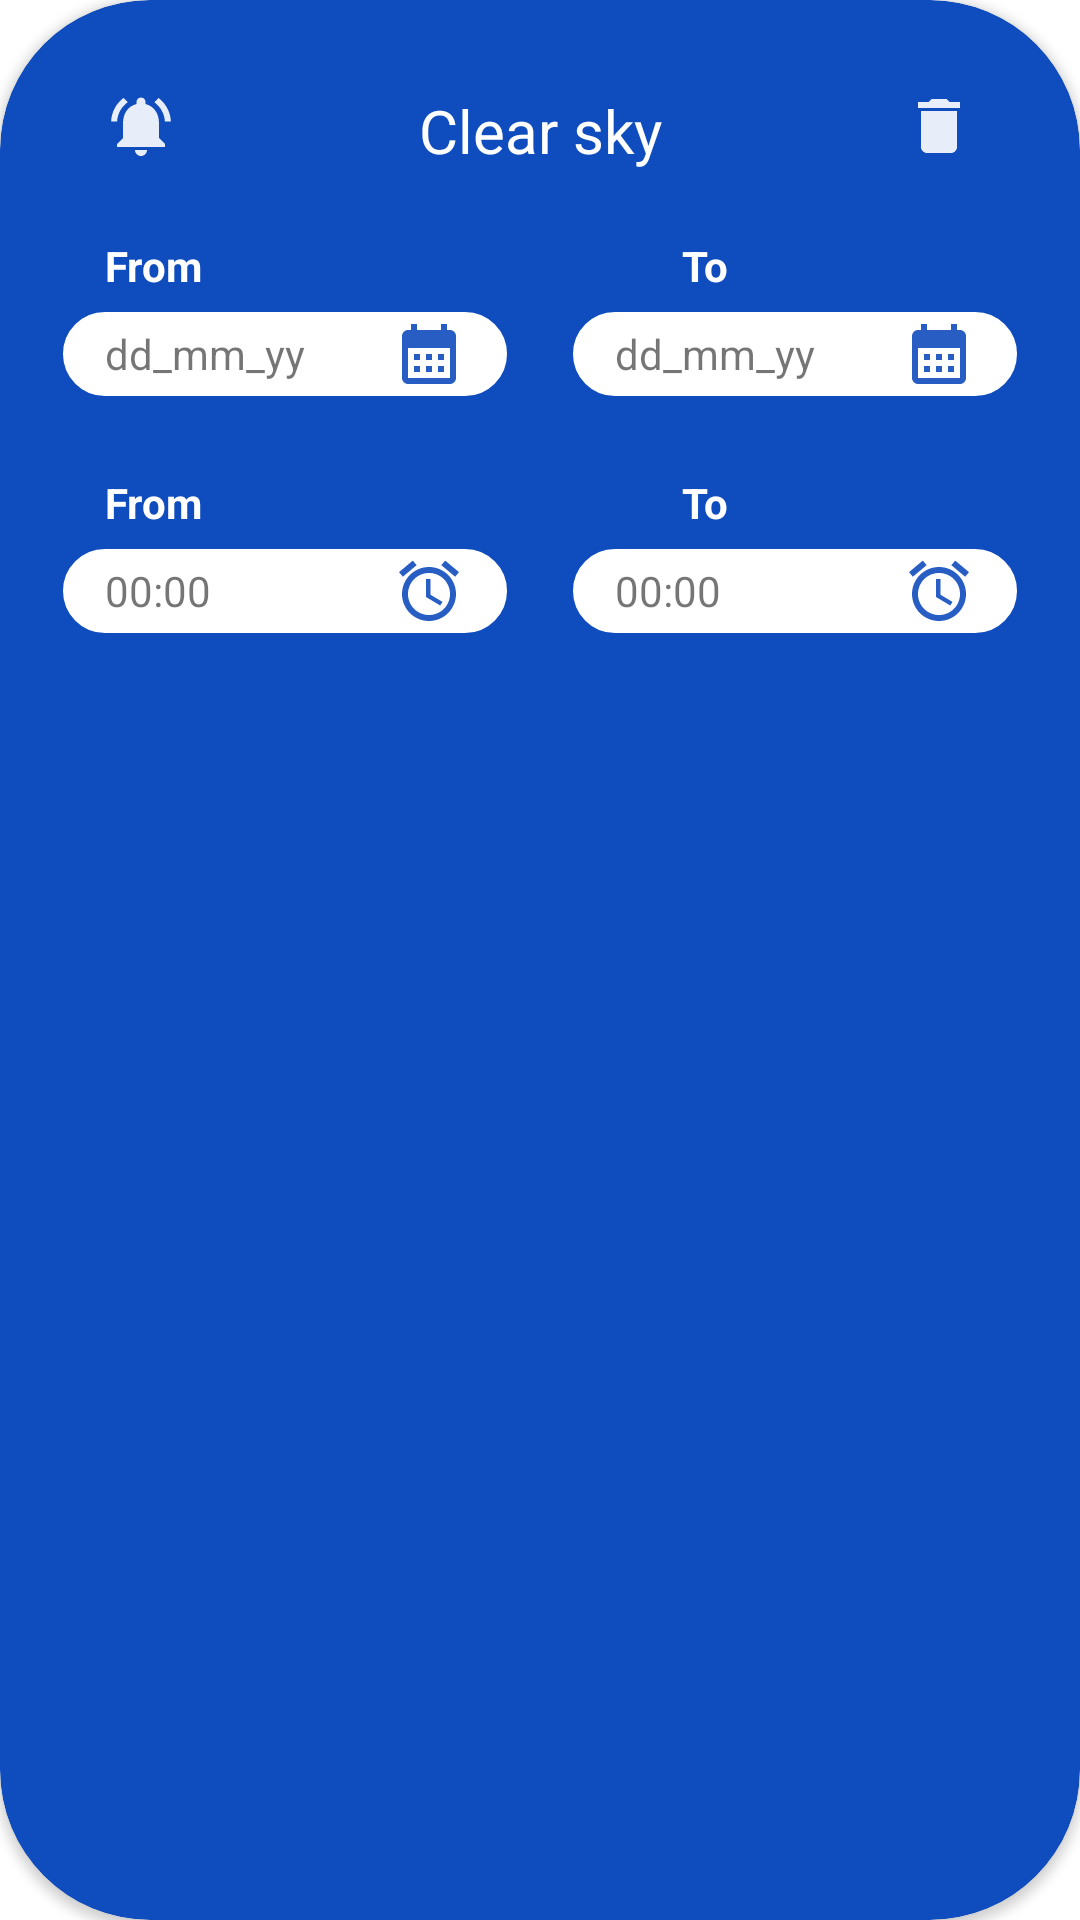

Icon click points for this 1080w x 1920h phone screenshot, format [x,y]:
delete: [939,126]
notifications alert: [141,126]
